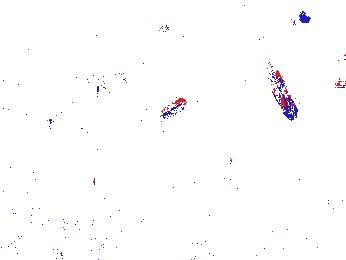X-ray fish: (264, 62, 298, 120), (127, 108, 163, 144)
red belly glassfish: (135, 22, 170, 42), (158, 96, 188, 117)
redtail glassfish: (79, 68, 133, 93)
